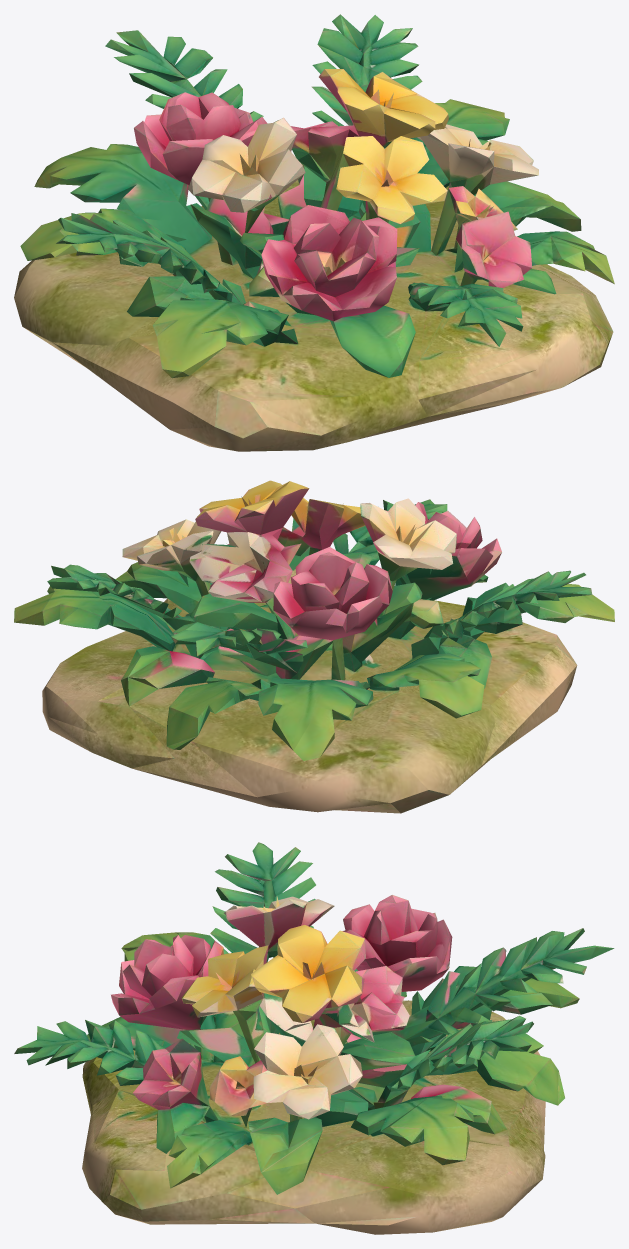
Rendered from p_flowers.fbx.
3 views of the same model, one above another, from view 1: azimuth 30°, elevation 25°; view 2: azimuth 150°, elevation 25°; view 3: azimuth 270°, elevation 25° (orthographic). The views are drawn at different scales.
Visible parts, largest first — view 1: Mesh_0; view 2: Mesh_0; view 3: Mesh_0.
Boxes of the visible parts, x1,y1,x2,y2 form: Mesh_0: (14, 14, 614, 451); Mesh_0: (14, 480, 614, 813); Mesh_0: (14, 842, 614, 1234).
Bounding box in the file's own units: 1.83 × 0.7753 × 1.89.
Materials: 1 (1 with a texture image).
